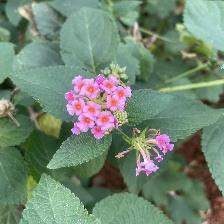common lanthana: (64, 71, 129, 143)
